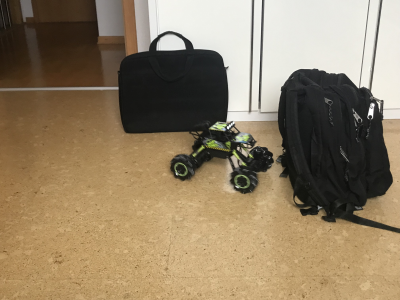remote control car: (169, 118, 276, 195)
